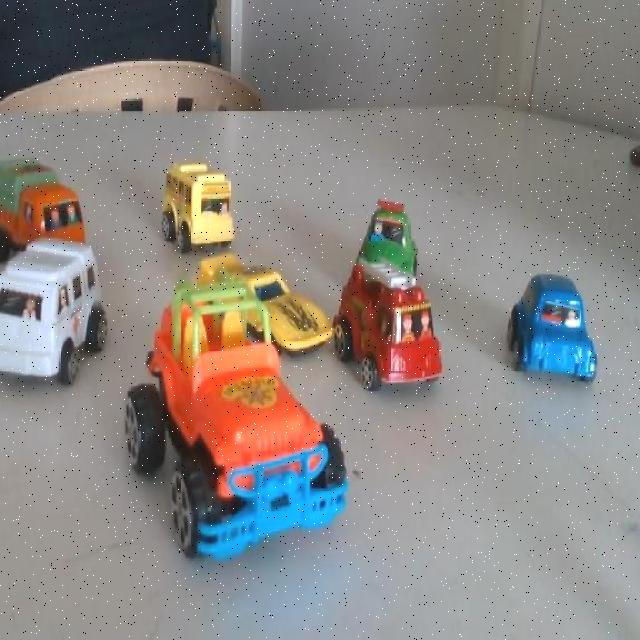car: (187, 357, 359, 571), (498, 259, 616, 415), (207, 250, 333, 372), (354, 261, 449, 403), (0, 254, 101, 374), (0, 152, 94, 270), (361, 205, 429, 296), (180, 158, 244, 250)
